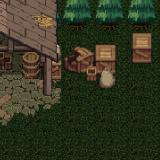Hide: (126, 32, 158, 72), (0, 90, 15, 156)
Obstacle: (0, 0, 62, 130), (62, 32, 126, 98), (126, 0, 158, 32), (93, 0, 125, 32), (61, 0, 93, 32)
